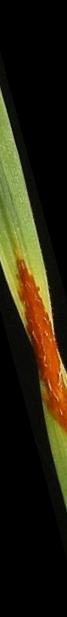Wheat: (6, 197, 64, 452)
